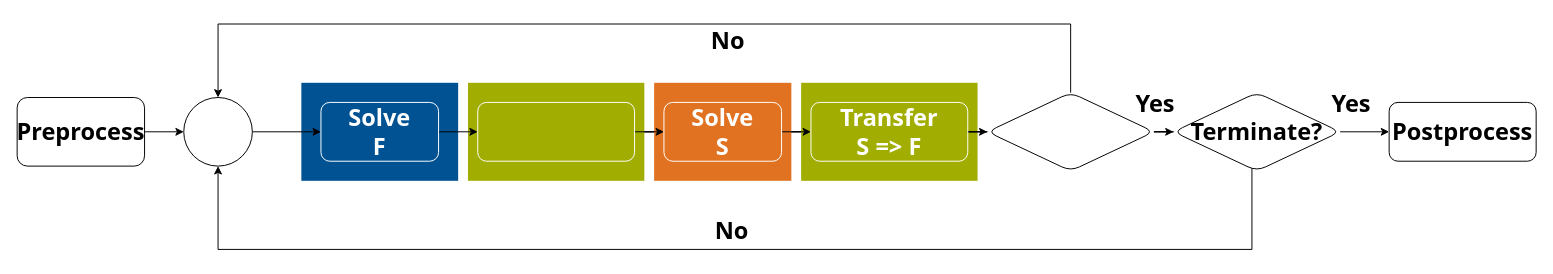
The diagram is 1553 pixels wide and 274 high, and some of its shapes have lost their labels. Here are the shapes that lost their labels. From the top down, the box of each, then its label:
(183, 97, 252, 166): Any
(477, 101, 635, 161): Transfer F => S
(986, 92, 1154, 171): Converged?
